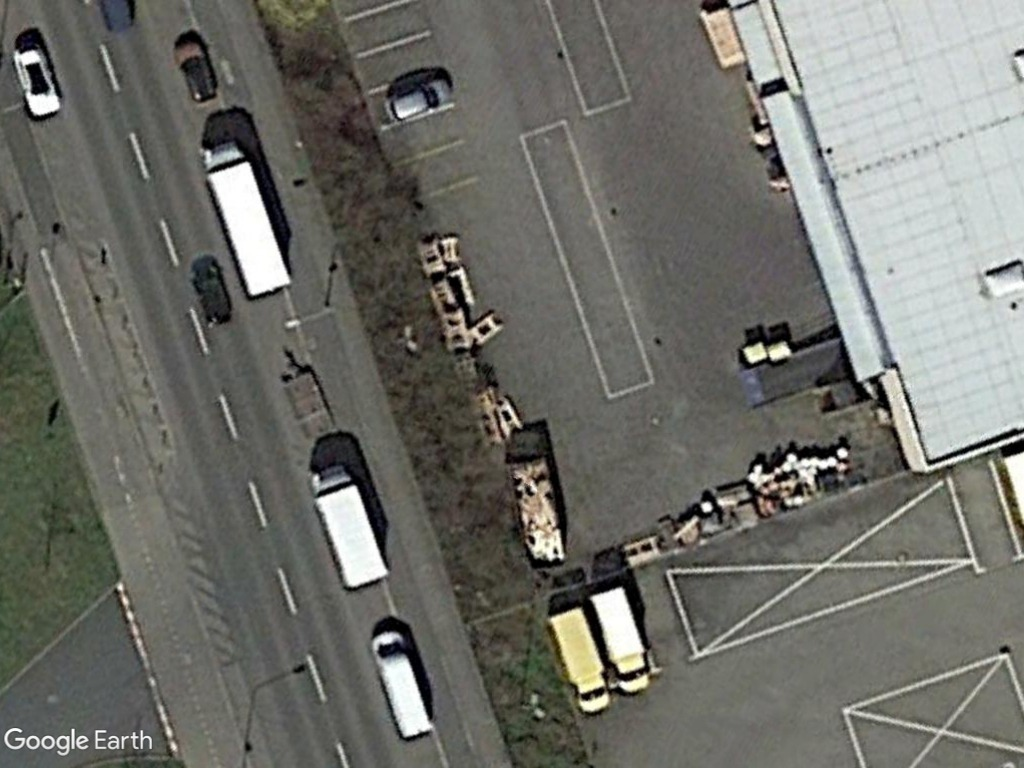car: (11, 39, 65, 122), (383, 76, 453, 128)
truck: (201, 140, 294, 302), (307, 463, 393, 596), (544, 602, 612, 716), (585, 584, 652, 698)
van: (368, 627, 436, 743)
